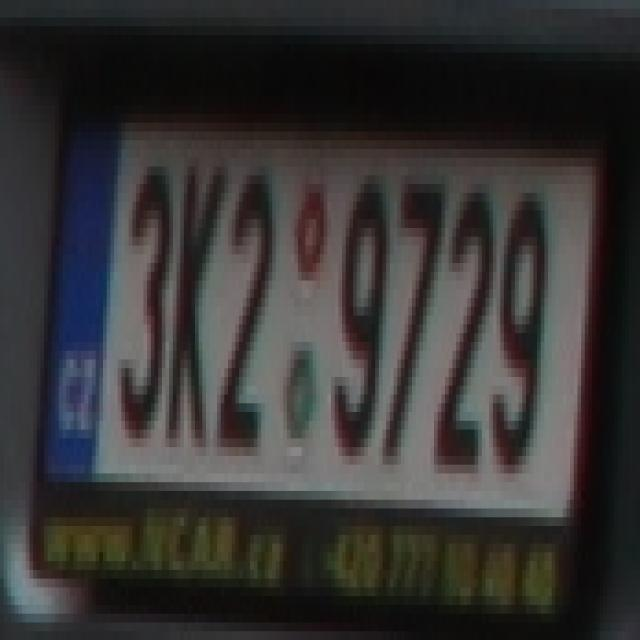2: (217, 158, 276, 448), (434, 184, 489, 474)
3: (114, 149, 162, 430)
7: (382, 175, 438, 456)
9: (490, 193, 544, 465), (327, 175, 379, 456)
K: (162, 158, 217, 448)
